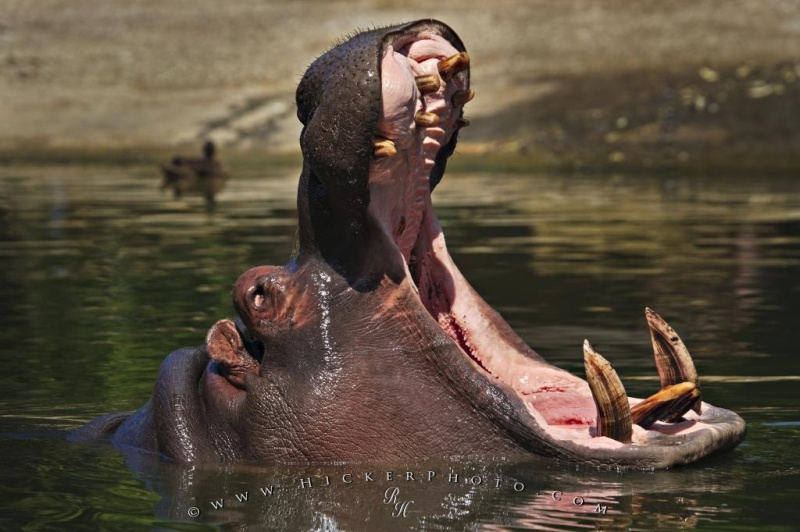hipopotamo: (128, 17, 747, 471)
